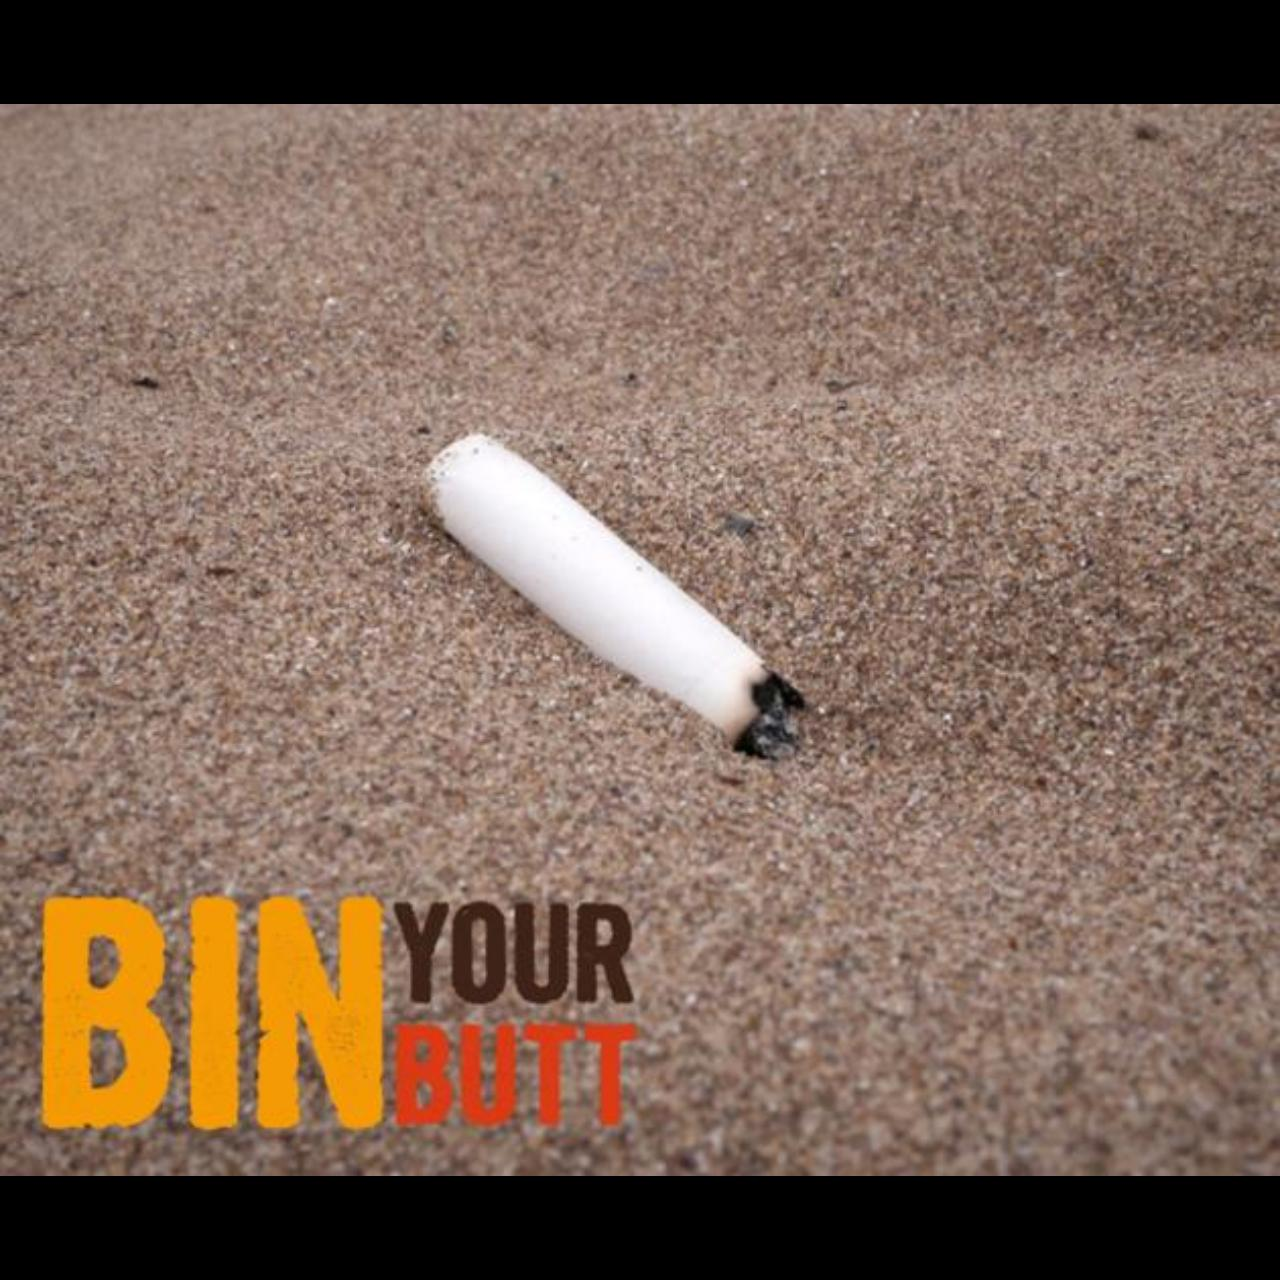cigarettes_butts: (429, 435, 809, 762)
